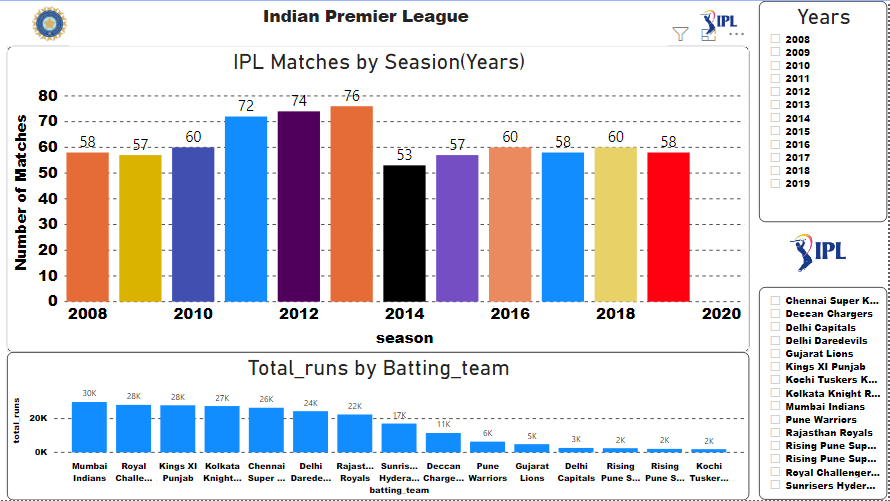

This screenshot's page, from the dashboard's own definition file:
{"tool":"powerbi","page":{"name":"Page 1","canvas":[1280,720],"ordinal":0},"visuals":[{"type":"clusteredColumnChart","title":"IPL Matches by Seasion(Years)","fields":{"Category":["matches.season"],"Y":["Sum(matches.Seasion(In Year))"]},"box":[10.1,64.9,1070.6,441.5],"z":0},{"type":"slicer","title":"Years","fields":{"Values":["matches.season"]},"box":[1095.2,0,184.7,318.9],"z":1000},{"type":"image","box":[995.6,0,85.1,64.9],"z":2000},{"type":"columnChart","title":"Total_runs by Batting_team","fields":{"Category":["deliveries.batting_team"],"Y":["Sum(deliveries.total_runs)"]},"box":[10.1,506.5,1070.6,213.5],"z":3000},{"type":"slicer","fields":{"Values":["deliveries.batting_team"]},"box":[1095.2,412.7,184.7,307.3],"z":4000},{"type":"image","box":[1095.2,318.9,174.6,93.8],"z":5000},{"type":"image","box":[10.1,0,174.6,64.9],"z":6000},{"type":"textbox","box":[99.6,0,864.3,64.9],"z":7000}]}

Visuals, with their boxes on the page's 1280x720 design canvas (x1, y1, x2, y2). These are canvas units, not pixel positions in the 890x501 screenshot, which may show the page scaled, cropped or inside an application window:
"IPL Matches by Seasion(Years)" clusteredColumnChart: <box>10,65,1081,506</box>
"Years" slicer: <box>1095,0,1280,319</box>
image: <box>996,0,1081,65</box>
"Total_runs by Batting_team" columnChart: <box>10,506,1081,720</box>
slicer - deliveries.batting_team: <box>1095,413,1280,720</box>
image: <box>1095,319,1270,413</box>
image: <box>10,0,185,65</box>
textbox: <box>100,0,964,65</box>
